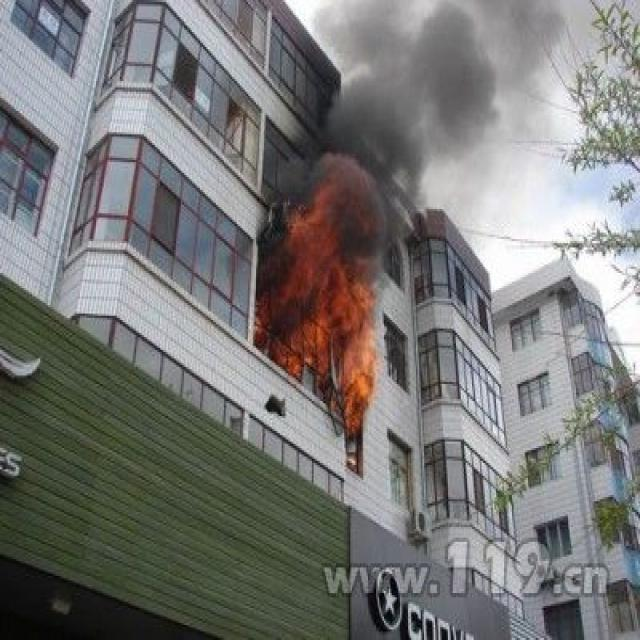fire: (255, 167, 388, 436)
smoke: (307, 0, 558, 194)
